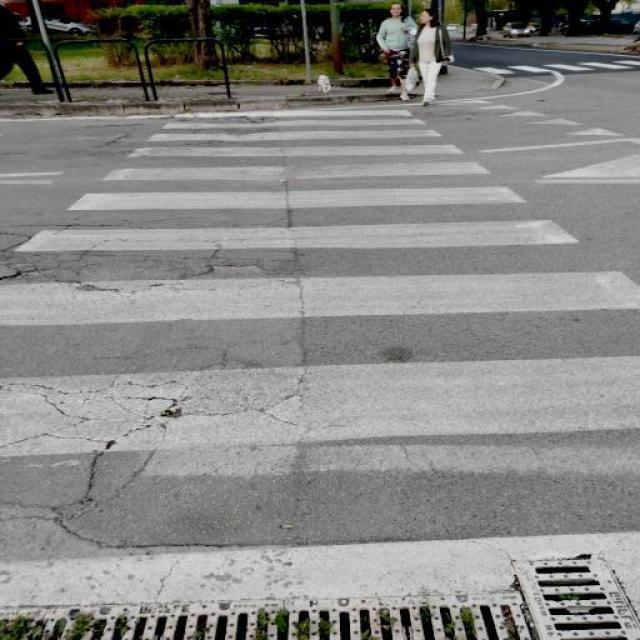crosswalk: (0, 107, 640, 564)
